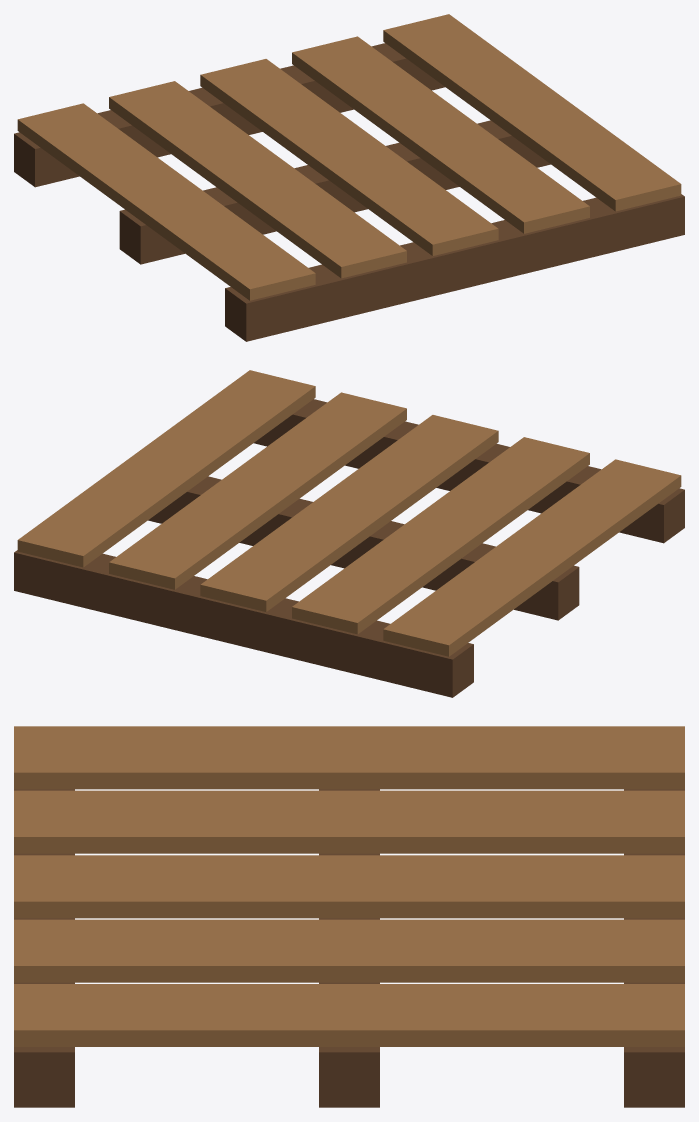
The model's file is pallet.glb.
The picture shows the model from 3 angles, top to bottom: view 1: azimuth 30°, elevation 25°; view 2: azimuth 150°, elevation 25°; view 3: azimuth 270°, elevation 25°; orthographic projection. The views are drawn at different scales.
Visible parts, largest first — view 1: pallet; view 2: pallet; view 3: pallet.
Part boxes in pixels (box(x1,y1,x2,y2)): pallet: box(14, 14, 684, 341); pallet: box(14, 370, 684, 697); pallet: box(14, 726, 684, 1107).
Size of the model in its own units: 1.2 by 0.135 by 1.1.
